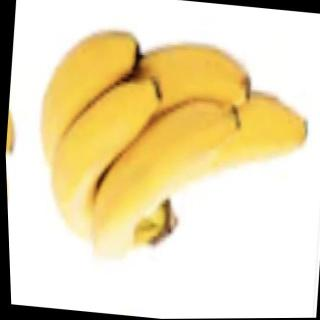banana: (114, 74, 317, 241), (82, 87, 246, 272), (92, 34, 258, 202), (40, 63, 169, 249), (29, 19, 146, 197)
